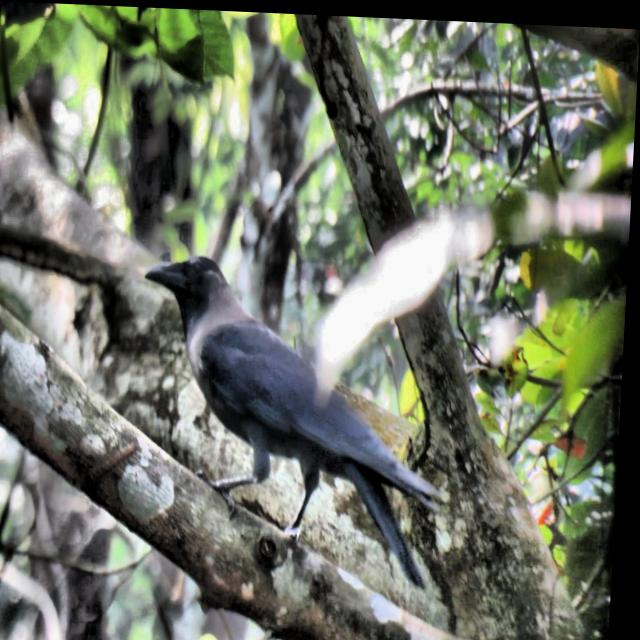crow: (131, 231, 465, 590)
